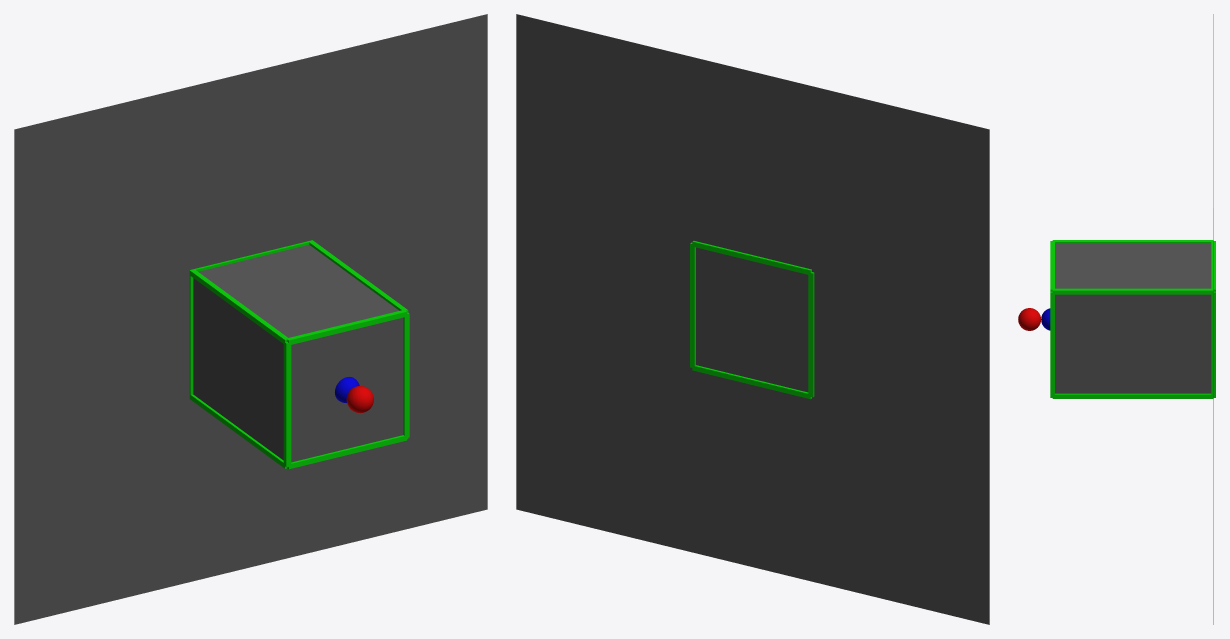
3 renders of one model, left to right at view 1: azimuth 30°, elevation 25°; view 2: azimuth 150°, elevation 25°; view 3: azimuth 270°, elevation 25°, orthographic. The views are drawn at different scales.
Bounding box in the file's own units: 2 × 2 × 0.86.
